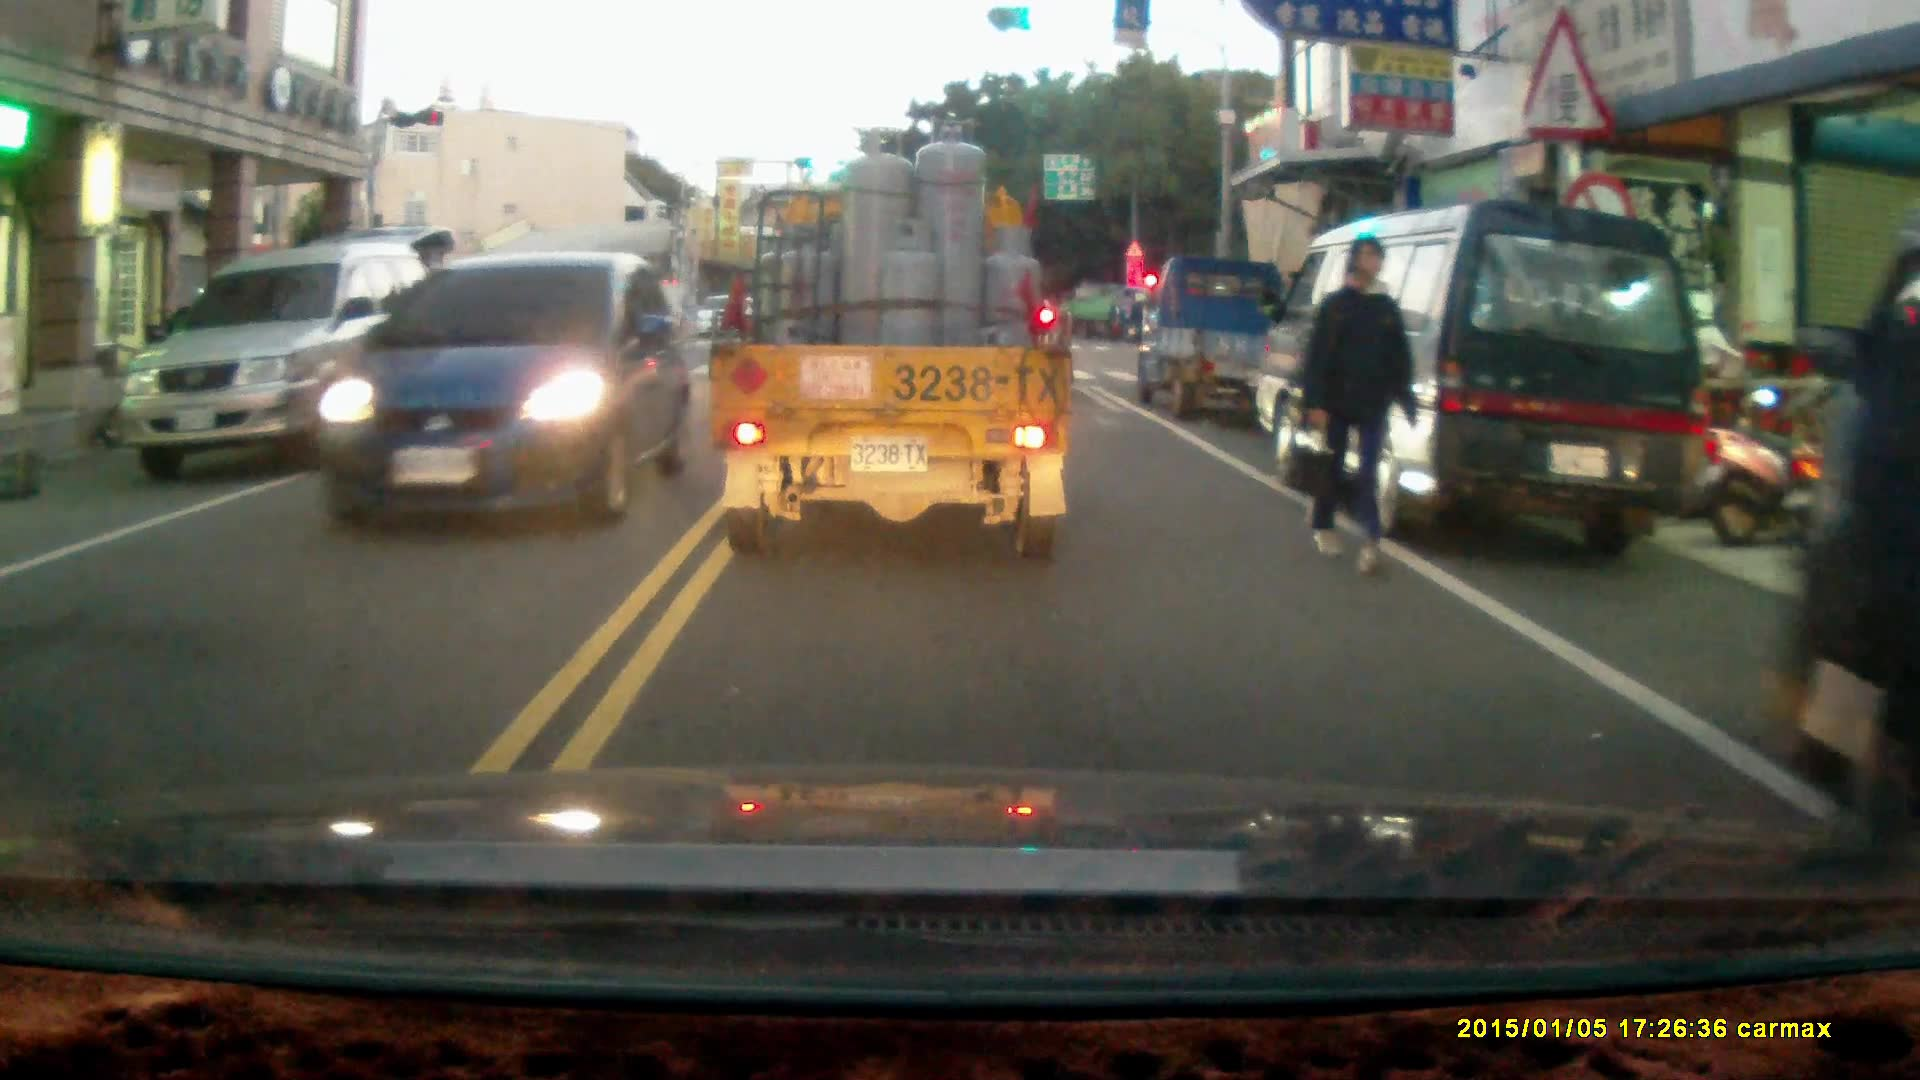pedestrian: (1793, 225, 1920, 873), (1299, 233, 1418, 578)
vehicle: (1258, 197, 1704, 561), (708, 120, 1074, 551), (302, 249, 701, 528), (117, 241, 454, 484), (342, 292, 556, 422), (1124, 246, 1282, 412)
